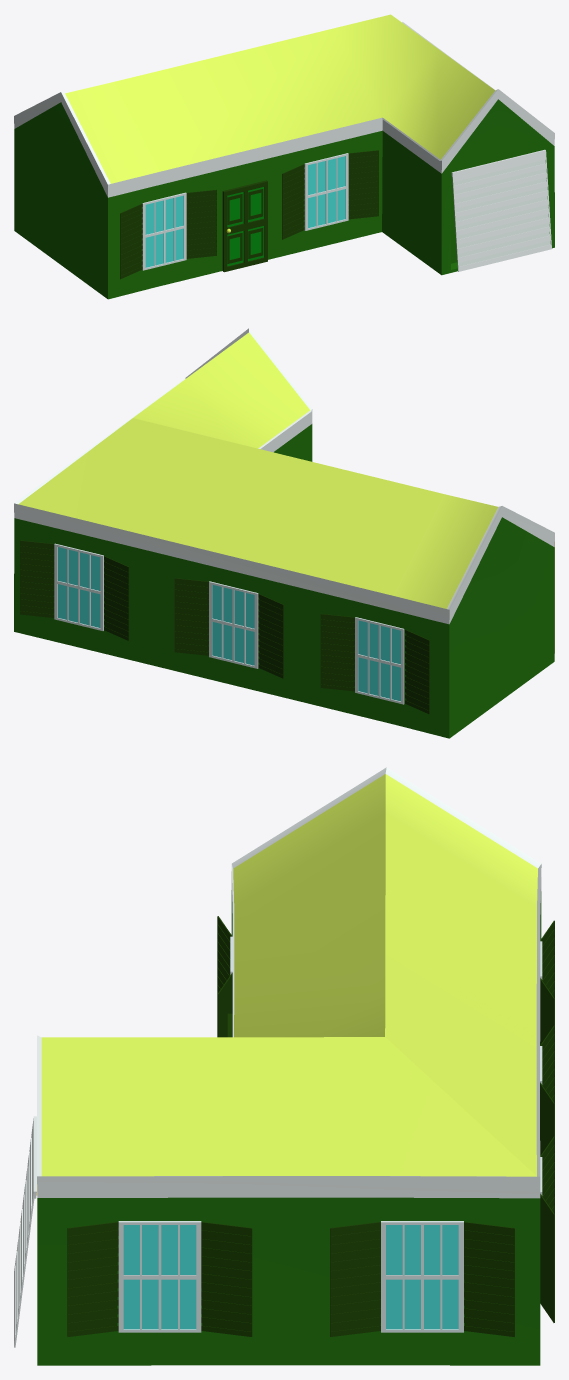
File: house7(traditionalranch).fbx
The picture shows the model from 3 angles, top to bottom: view 1: azimuth 30°, elevation 25°; view 2: azimuth 150°, elevation 25°; view 3: azimuth 270°, elevation 25°; orthographic projection. The views are drawn at different scales.
Parts seen in each view (by area): view 1: Cube; view 2: Cube; view 3: Cube.
Boxes of the visible parts, x1=… form: Cube: x1=14, y1=14, x2=554, y2=299; Cube: x1=14, y1=328, x2=554, y2=738; Cube: x1=14, y1=767, x2=554, y2=1365.
Bounding box in the file's own units: 808 × 338 × 579.
